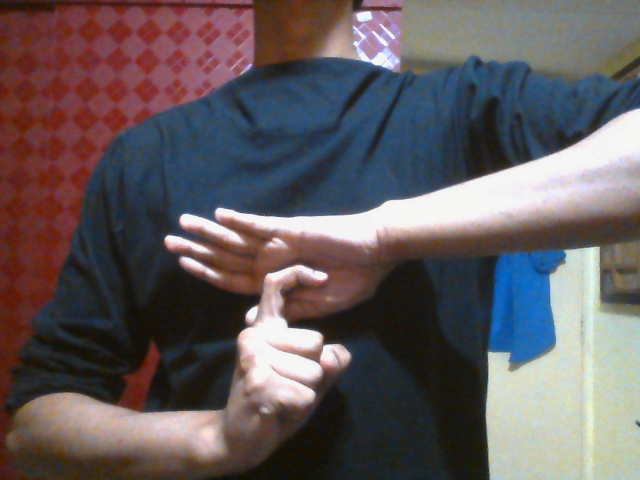R: (162, 205, 377, 447)
